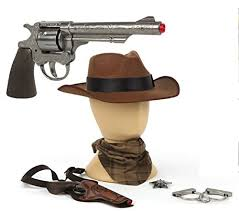Arma Falsa: (5, 16, 163, 100)
